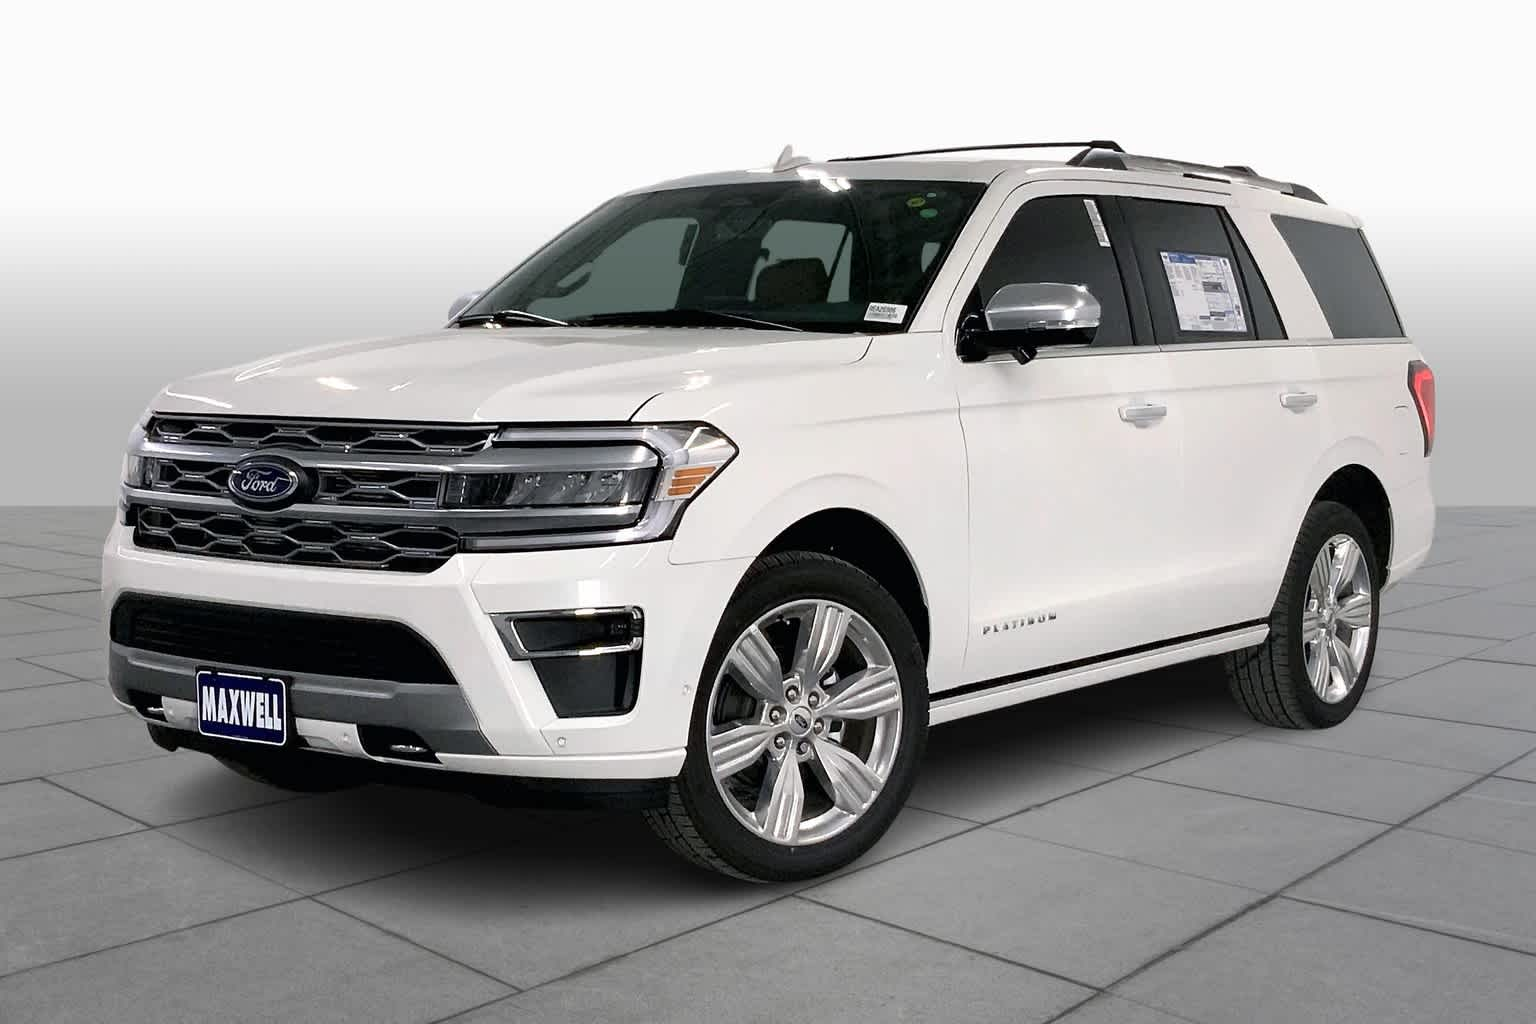car: (82, 131, 1448, 897)
